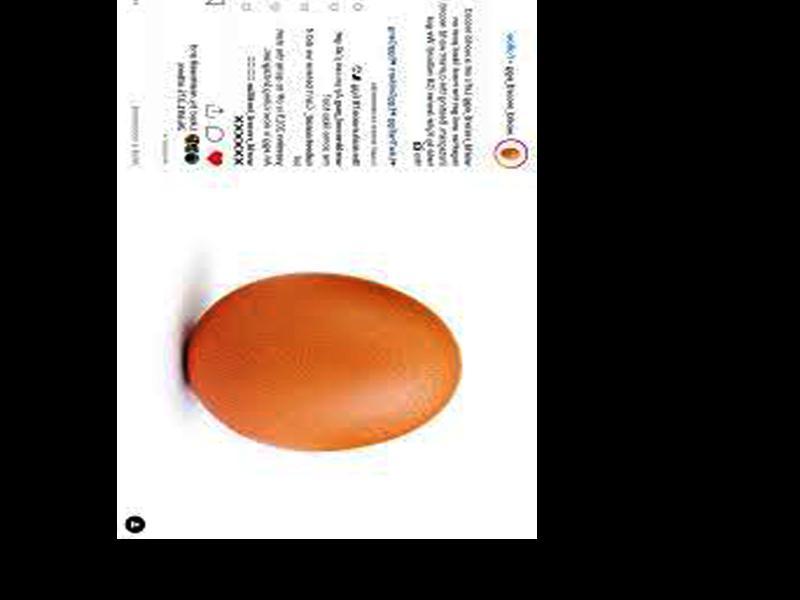Eggs: (188, 273, 459, 451)
